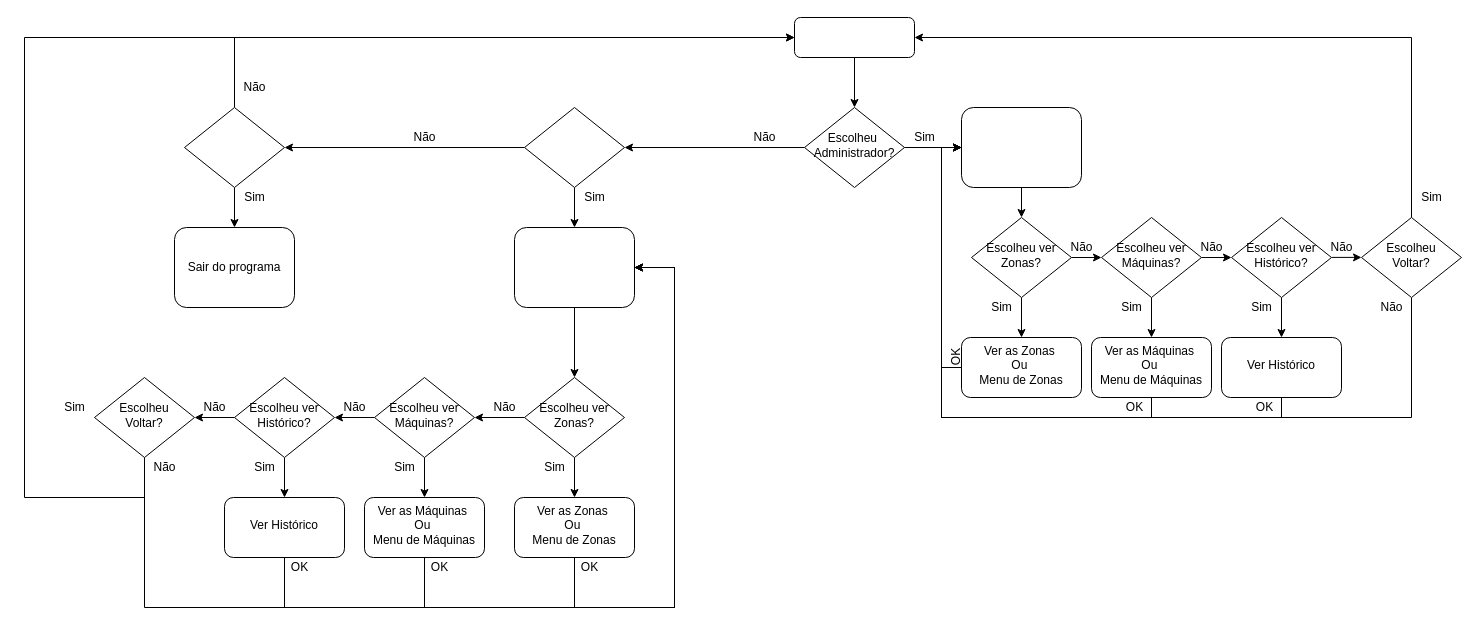
This 1479x633 diagram has some shape labels left out. Here are the shapes that lost their labels. From the top down, the box of each, then its label:
(794, 16, 914, 58): Menu Principal
(184, 106, 284, 188): Escolheu Sair?
(524, 106, 624, 188): Escolheu Cliente?
(960, 106, 1082, 188): Menu Administrador
(514, 226, 634, 308): Menu Cliente
